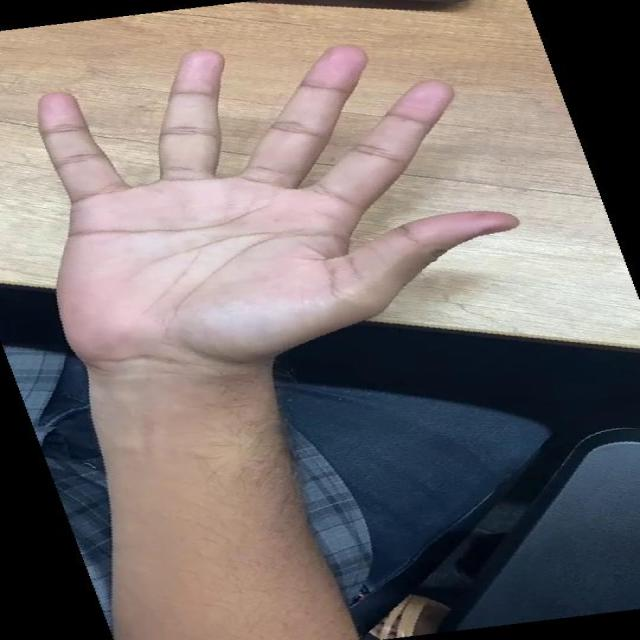no-gloves: (15, 17, 547, 420)
